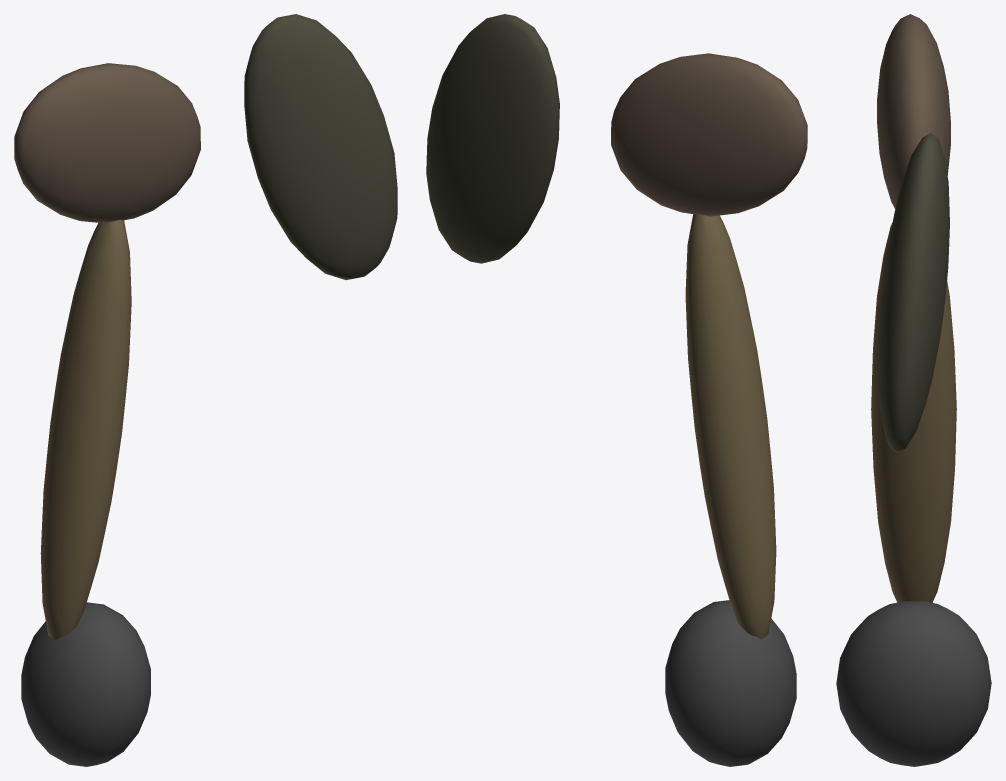
File: Lantern_032B_ellip.glb
3 renders of one model, left to right at view 1: azimuth 30°, elevation 25°; view 2: azimuth 150°, elevation 25°; view 3: azimuth 270°, elevation 25°, orthographic. The views are drawn at different scales.
Bounding box in the file's own units: 1.13 × 1.97 × 0.3749.
